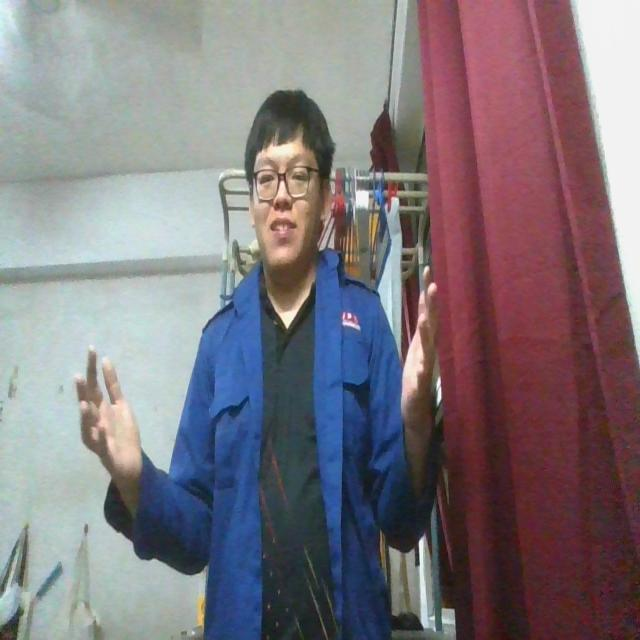person_with_labcoat: (77, 92, 437, 639)
